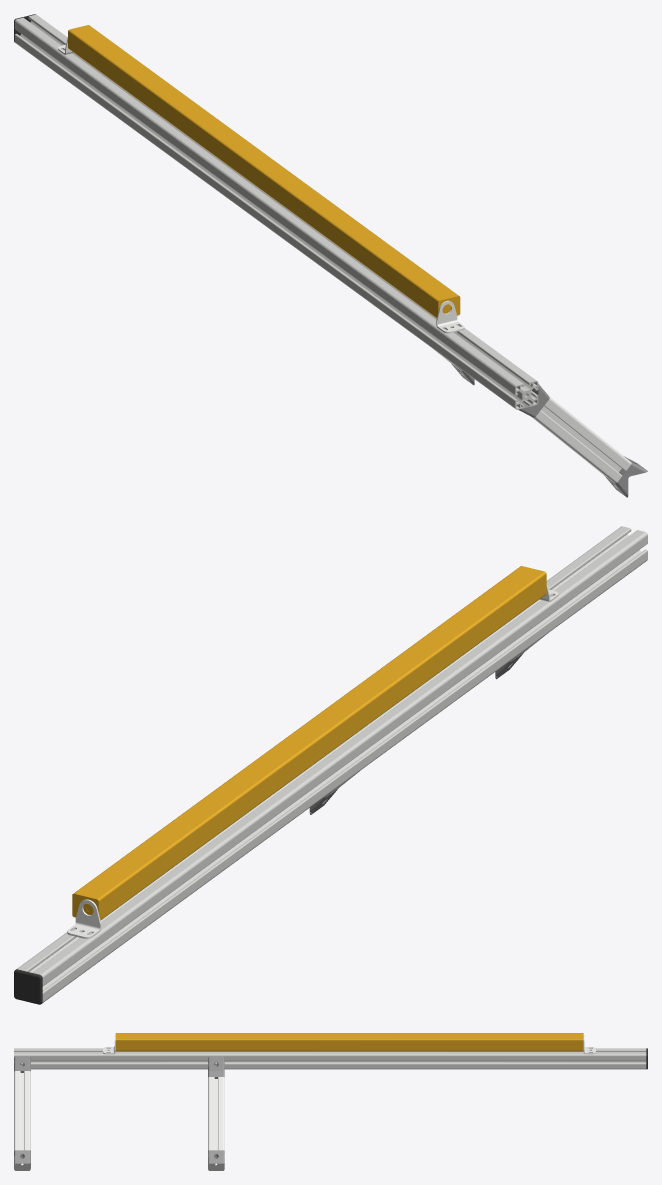
Rendered from LC Assembly Rear LHS v23.dae.
3 renders of one model, top to bottom at view 1: azimuth 30°, elevation 25°; view 2: azimuth 150°, elevation 25°; view 3: azimuth 270°, elevation 25°, orthographic. The views are drawn at different scales.
Parts seen in each view (by area): view 1: node0, node2, node6; view 2: node0, node2, node4, node1; view 3: node0, node2, node6, node9, node10, node5, node8, node7.
Boxes of the visible parts, x1,y1,x2,y2 form: node0: (14, 14, 538, 409); node2: (68, 25, 460, 317); node6: (531, 397, 631, 483); node0: (17, 526, 647, 1002); node2: (72, 566, 546, 920); node4: (14, 969, 42, 1004); node1: (67, 899, 101, 938); node0: (14, 1048, 646, 1069); node2: (115, 1033, 583, 1051); node6: (14, 1071, 30, 1150); node9: (208, 1077, 224, 1150); node10: (208, 1056, 224, 1078); node5: (14, 1150, 30, 1170); node8: (208, 1150, 224, 1170); node7: (14, 1056, 30, 1072).
Size of the model in its own units: 0.2315 by 1.5 by 0.2735.
